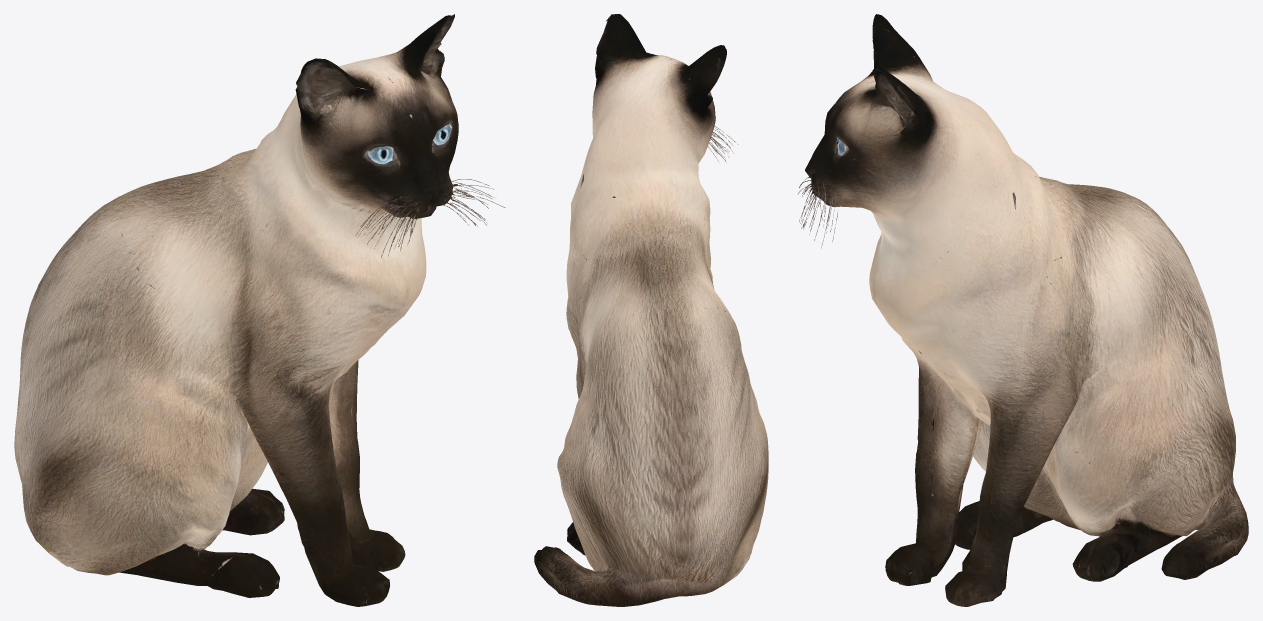
Rendered from cacao.glb.
3 renders of one model, left to right at view 1: azimuth 30°, elevation 25°; view 2: azimuth 150°, elevation 25°; view 3: azimuth 270°, elevation 25°, orthographic. The views are drawn at different scales.
Parts seen in each view (by area): view 1: Object_4; view 2: Object_4; view 3: Object_4.
Part boxes in pixels (left/top/right/bottom): Object_4: left=14, top=14, right=505, bottom=606; Object_4: left=534, top=14, right=768, bottom=606; Object_4: left=797, top=14, right=1248, bottom=606.
Size of the model in its own units: 1.08 by 1.89 by 1.43.
Materials: 1 (1 with a texture image).
